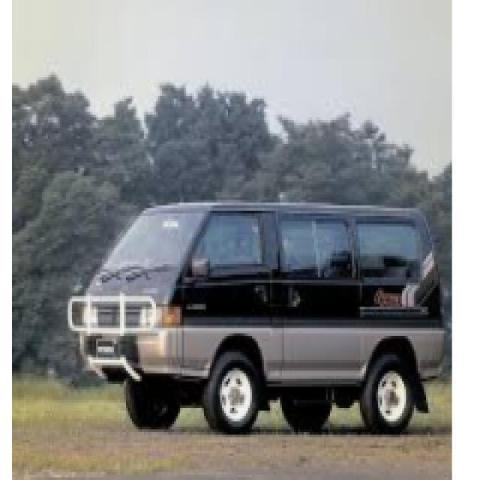van: (70, 198, 446, 440)
